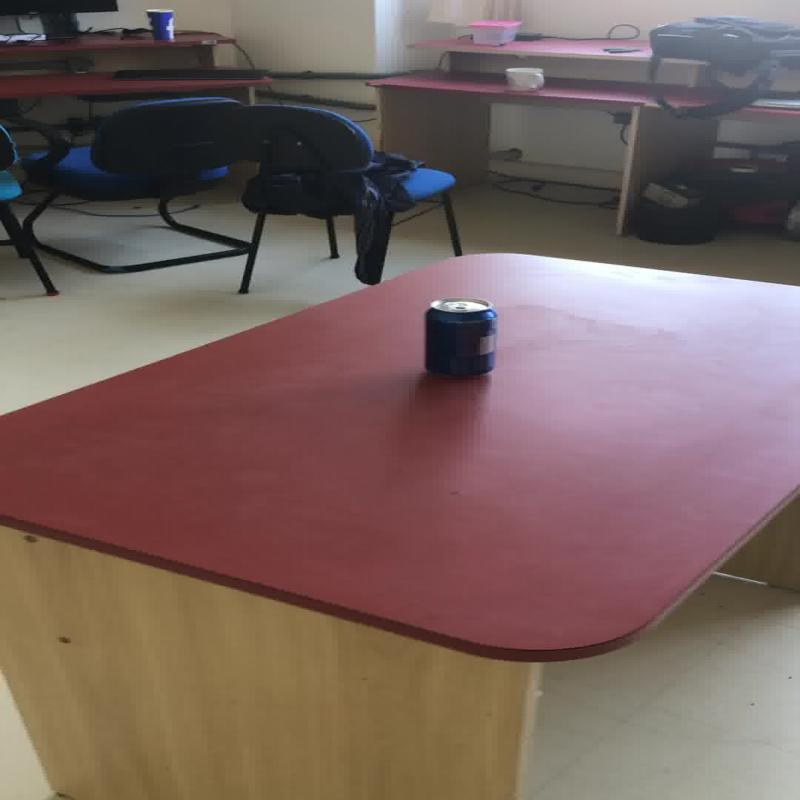tonic: (421, 296, 498, 376), (144, 8, 175, 40)
